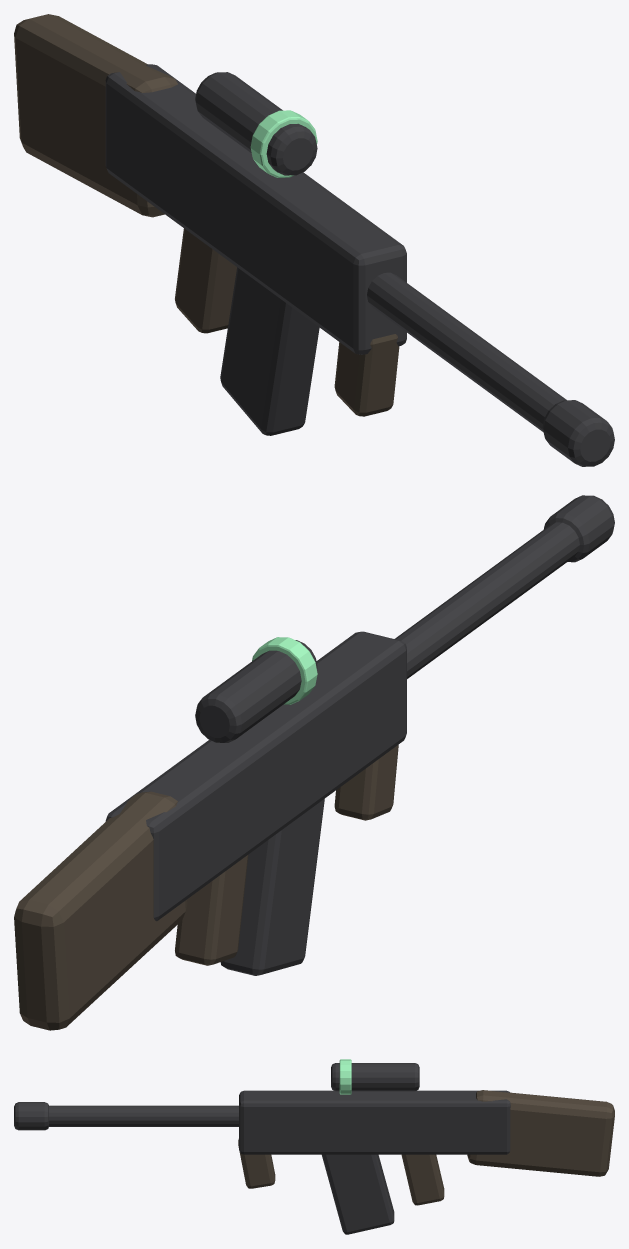
The model's file is rifle.glb.
3 views of the same model, one above another, from view 1: azimuth 30°, elevation 25°; view 2: azimuth 150°, elevation 25°; view 3: azimuth 270°, elevation 25° (orthographic). The views are drawn at different scales.
Parts seen in each view (by area): view 1: receiver, stock, mag, barrel, scope, grip, foregrip, muzzle, scope_ring; view 2: receiver, stock, mag, barrel, scope, grip, foregrip, muzzle, scope_ring; view 3: receiver, stock, mag, barrel, scope, grip, foregrip, muzzle, scope_ring.
Part boxes in pixels (left/top/right/bottom): receiver: left=105, top=64, right=406, bottom=354; stock: left=14, top=14, right=177, bottom=217; mag: left=220, top=267, right=319, bottom=435; barrel: left=367, top=272, right=566, bottom=432; scope: left=195, top=72, right=317, bottom=175; grip: left=175, top=228, right=236, bottom=333; foregrip: left=334, top=334, right=399, bottom=416; muzzle: left=542, top=400, right=614, bottom=466; scope_ring: left=250, top=110, right=317, bottom=177; receiver: left=105, top=631, right=406, bottom=921; stock: left=14, top=791, right=187, bottom=1030; mag: left=220, top=799, right=324, bottom=975; barrel: left=395, top=522, right=579, bottom=678; scope: left=195, top=640, right=317, bottom=742; grip: left=175, top=855, right=248, bottom=965; foregrip: left=334, top=745, right=398, bottom=820; muzzle: left=543, top=495, right=614, bottom=562; scope_ring: left=252, top=637, right=317, bottom=704; receiver: left=239, top=1090, right=510, bottom=1154; stock: left=467, top=1090, right=614, bottom=1176; mag: left=322, top=1154, right=394, bottom=1234; barrel: left=49, top=1105, right=238, bottom=1126; scope: left=331, top=1063, right=419, bottom=1091; grip: left=401, top=1154, right=444, bottom=1205; foregrip: left=238, top=1139, right=275, bottom=1188; muzzle: left=14, top=1102, right=48, bottom=1130; scope_ring: left=339, top=1059, right=351, bottom=1094.
Size of the model in its own units: 0.06 by 0.3164 by 1.01.
